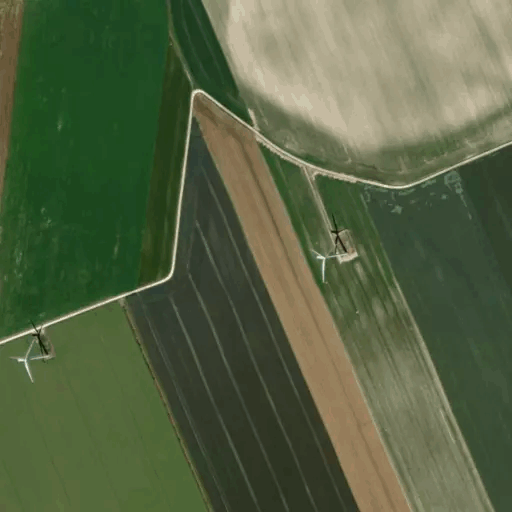wt: (10, 316, 75, 388), (306, 214, 363, 290)
